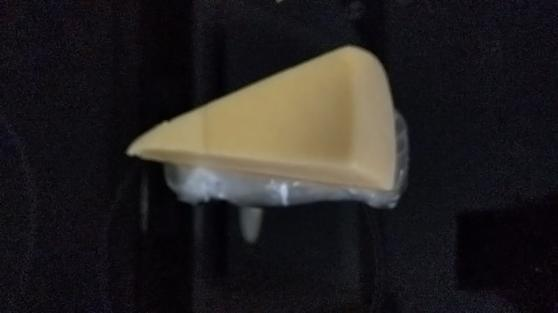cheese: (120, 45, 402, 203)
